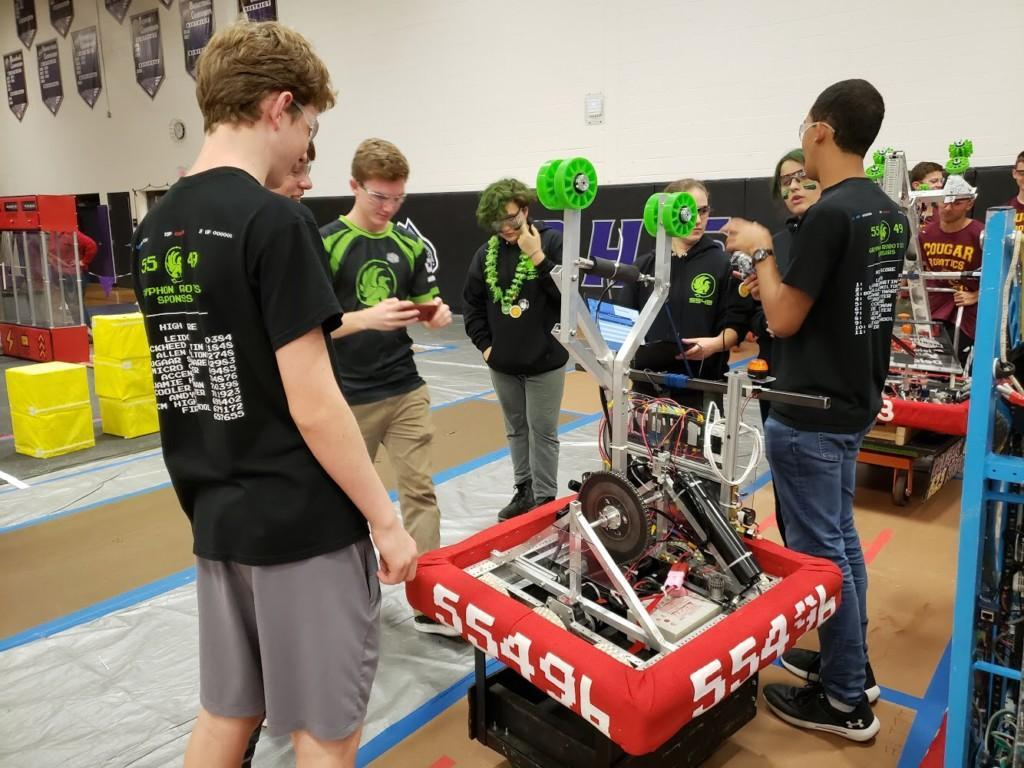robot: (404, 151, 848, 757), (862, 142, 1006, 442)
